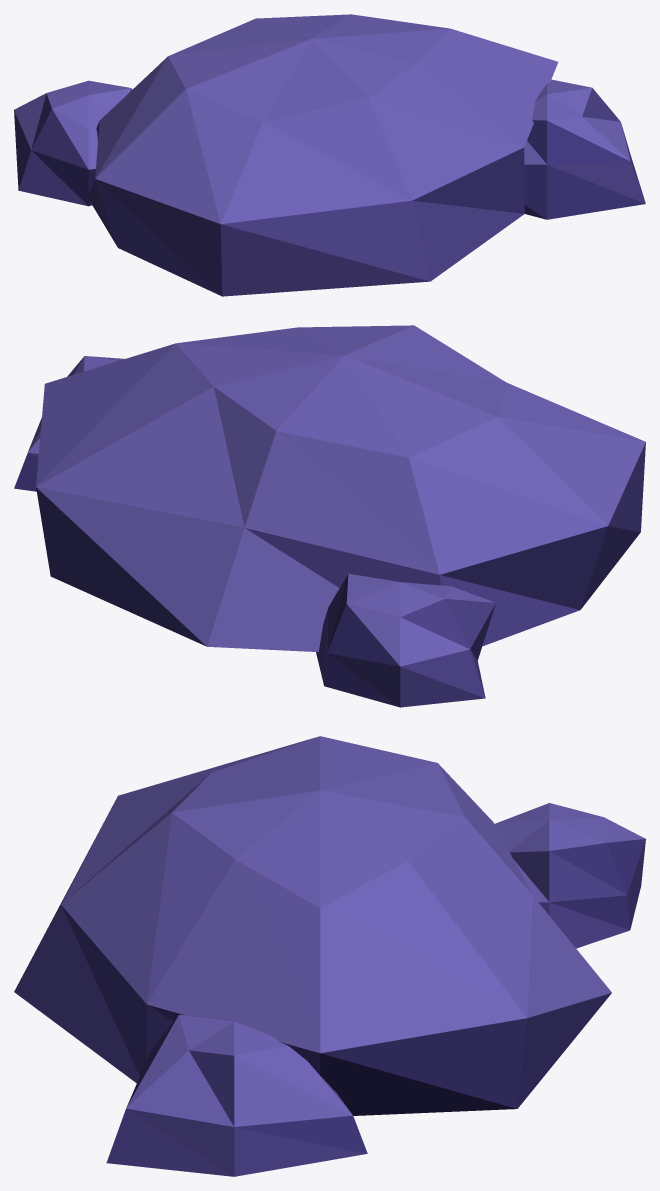
File: Mine_Rock_Boulder_C.obj
3 views of the same model, one above another, from view 1: azimuth 30°, elevation 25°; view 2: azimuth 150°, elevation 25°; view 3: azimuth 270°, elevation 25° (orthographic). The views are drawn at different scales.
Visible parts, largest first — view 1: Mine_Rock_Boulder_C; view 2: Mine_Rock_Boulder_C; view 3: Mine_Rock_Boulder_C.
Part boxes in pixels (x1=…): Mine_Rock_Boulder_C: x1=14, y1=14, x2=645, y2=296; Mine_Rock_Boulder_C: x1=14, y1=325, x2=645, y2=707; Mine_Rock_Boulder_C: x1=14, y1=736, x2=645, y2=1176.
Size of the model in its own units: 3.92 by 1.26 by 3.31.
